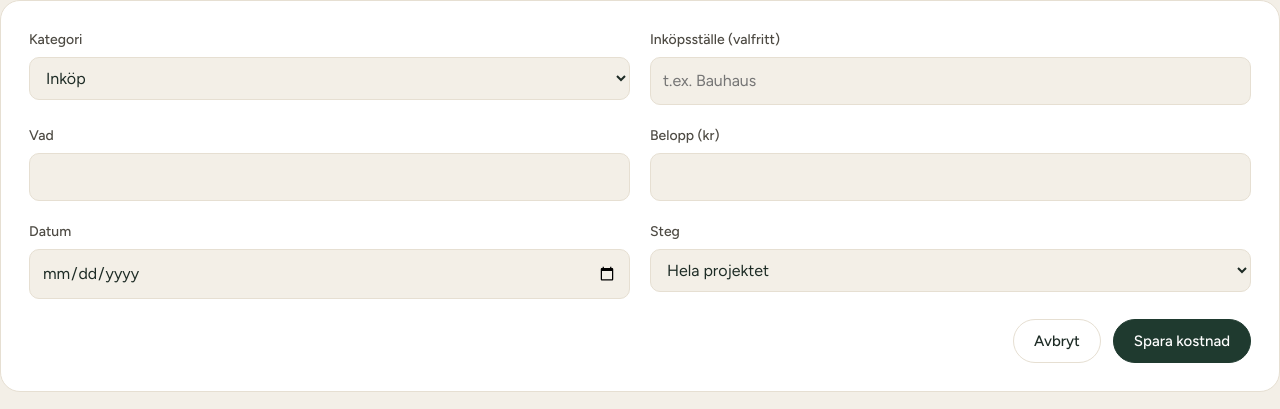
ExpenseForm › asks for a company instead of a store when a craftsman is chosen
The width and height of the screenshot is (1280, 409).
Select "Snickare" in the dropdown labelled "Kategori" at (330, 79), box [29,57,630,100]
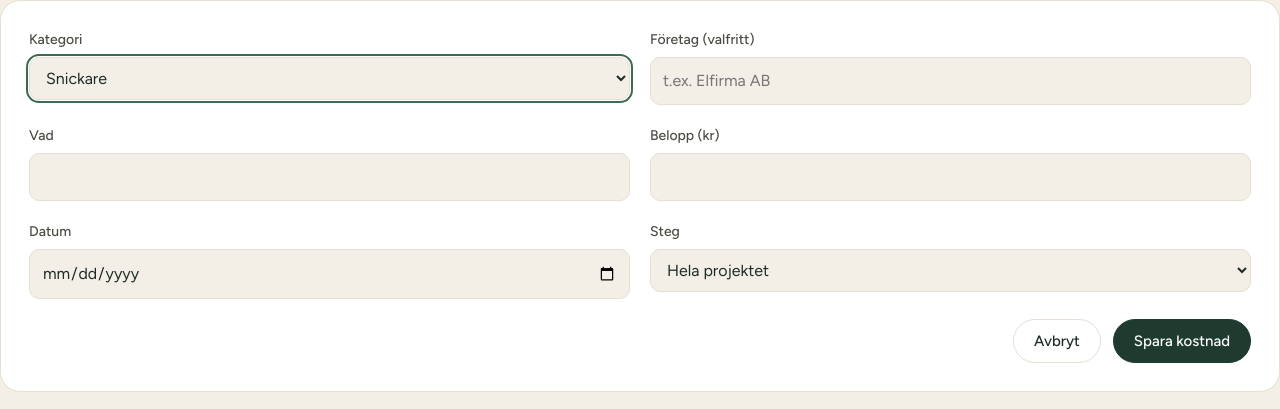
Now the text labelled "Inköpsställe (valfritt)" is gone
